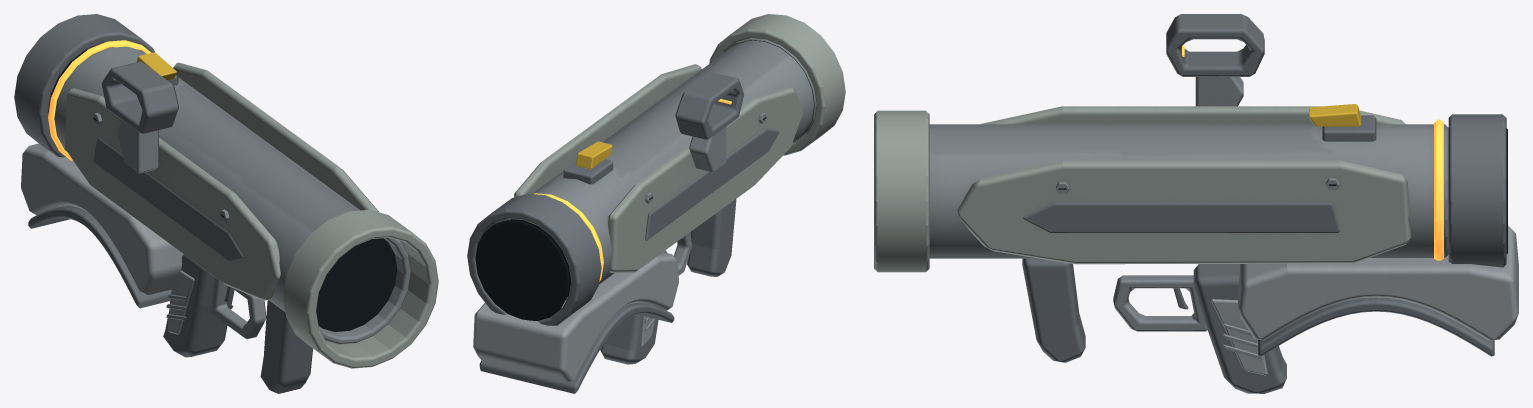
File: rocket.glb
3 renders of one model, left to right at view 1: azimuth 30°, elevation 25°; view 2: azimuth 150°, elevation 25°; view 3: azimuth 270°, elevation 25°, orthographic. The views are drawn at different scales.
Parts seen in each view (by area): view 1: rocket-ka12-arsenal; view 2: rocket-ka12-arsenal; view 3: rocket-ka12-arsenal.
Part boxes in pixels (x1,y1,x2,y2): rocket-ka12-arsenal: (14, 14, 438, 393); rocket-ka12-arsenal: (467, 14, 845, 393); rocket-ka12-arsenal: (874, 14, 1518, 393).
Size of the model in its own units: 0.461 by 0.8727 by 1.55.
1 material, 1 textured.
